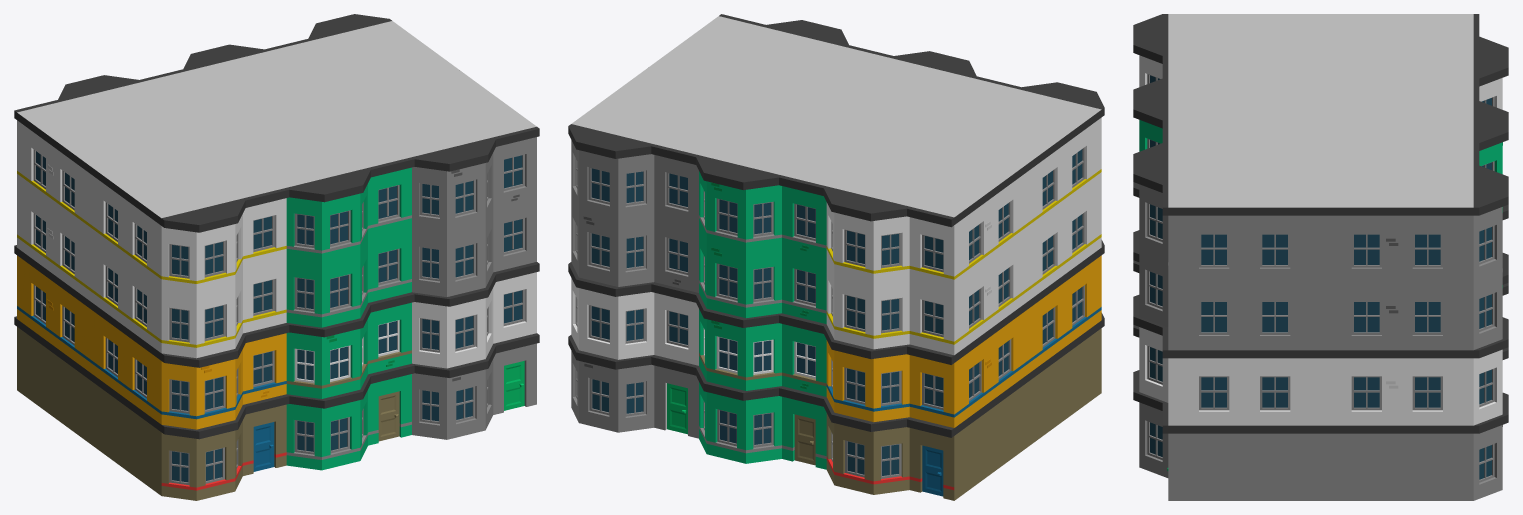
File: Classical-10.fbx
The picture shows the model from 3 angles, left to right: view 1: azimuth 30°, elevation 25°; view 2: azimuth 150°, elevation 25°; view 3: azimuth 270°, elevation 25°; orthographic projection. The views are drawn at different scales.
Visible parts, largest first — view 1: Building; view 2: Building; view 3: Building.
Boxes of the visible parts, x1=… form: Building: x1=14, y1=14, x2=539, y2=500; Building: x1=568, y1=14, x2=1104, y2=500; Building: x1=1133, y1=14, x2=1508, y2=500.
Size of what is drawn, in the model's own units: 18.02 by 12.73 by 14.74.
